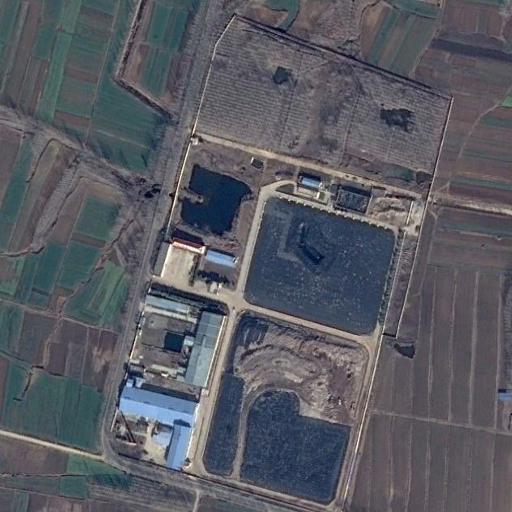lf: (201, 309, 370, 507), (242, 194, 398, 338)
